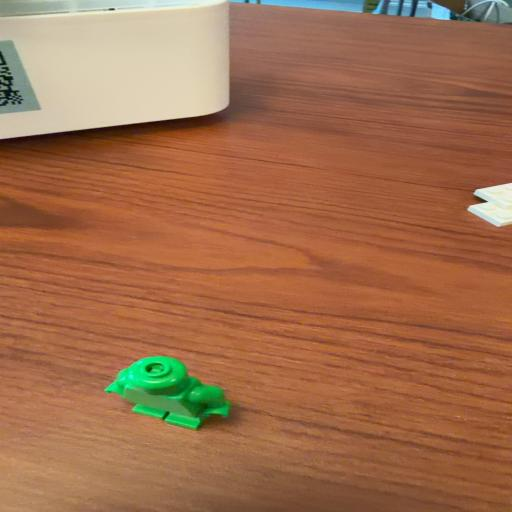UnoQ-minifig-detector: (104, 355, 231, 431), (398, 511, 399, 512)
